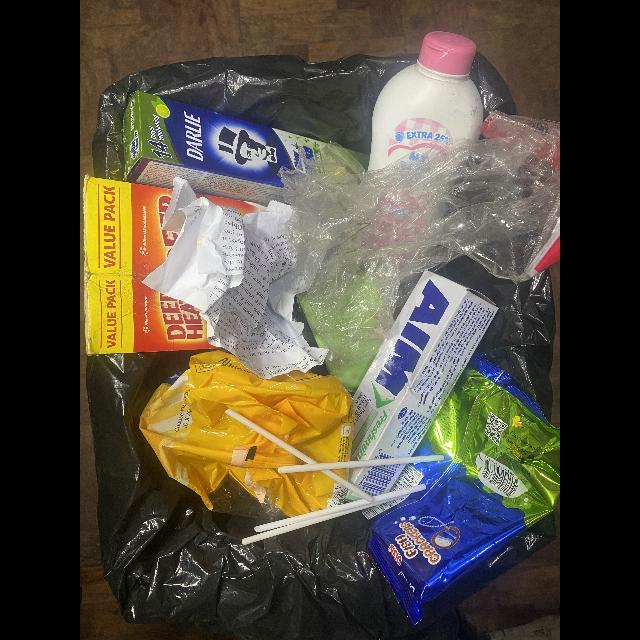cardboard: (346, 267, 498, 502), (124, 88, 371, 206), (85, 175, 216, 353)
food_wrapper: (363, 350, 560, 628), (138, 349, 354, 519)
paper: (143, 177, 332, 379)
plastic_bag: (280, 103, 560, 388)
